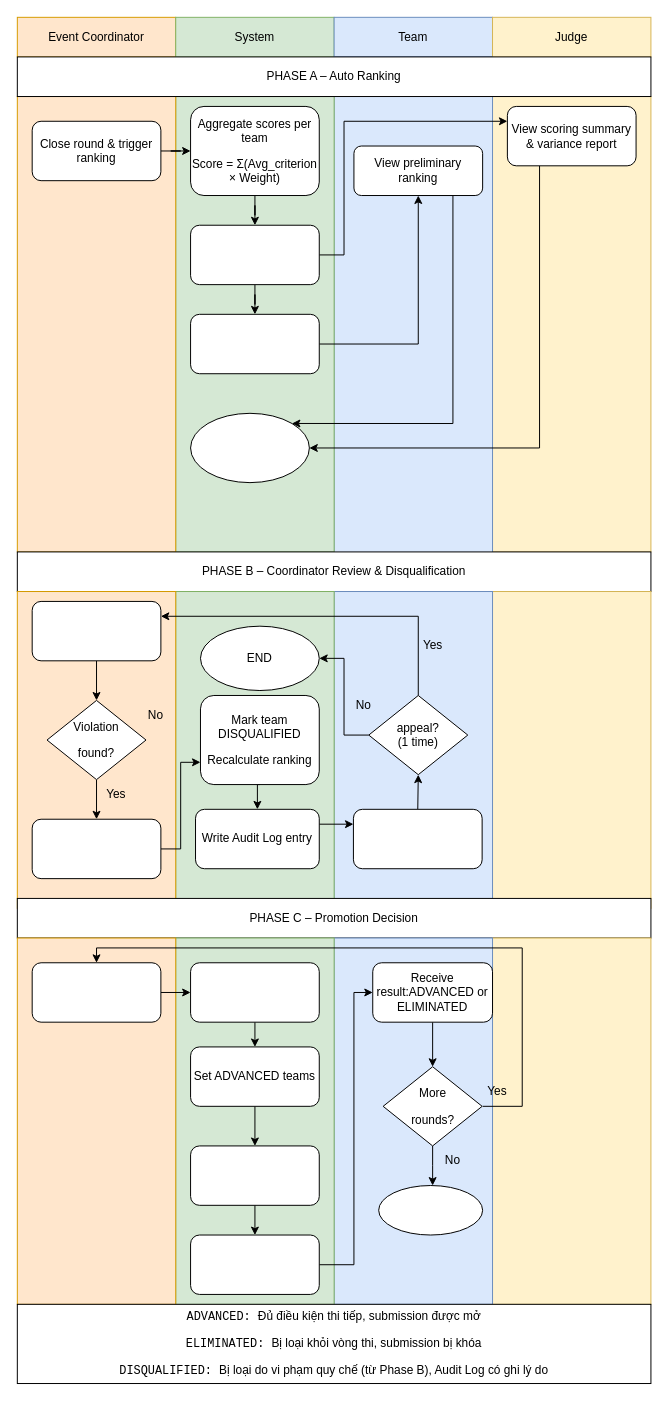
The diagram is 668 pixels wide and 1408 high, and some of its shapes have lost their labels. Each missing label, with the centre of its shape:
"Apply tie-breaker rule" belongs at (254,343).
"CLOSE ROUND" belongs at (249,447).
"Confirm Top-N rule & finalize promotion list" belongs at (96,992).
"Disqualify team" belongs at (96,848).
"END (Next Phase)" belongs at (430,1210).
"Filter Top-N teams per Track" belongs at (254,992).
"Rank teams by Track & overall event" belongs at (254,254).
"Receive disqualification notification" belongs at (417,838).
"Review ranking & check violations" belongs at (96,630).
"Send promotion/elimination notifications" belongs at (254,1264).
"Set ELIMINATED teams" belongs at (254,1175).
